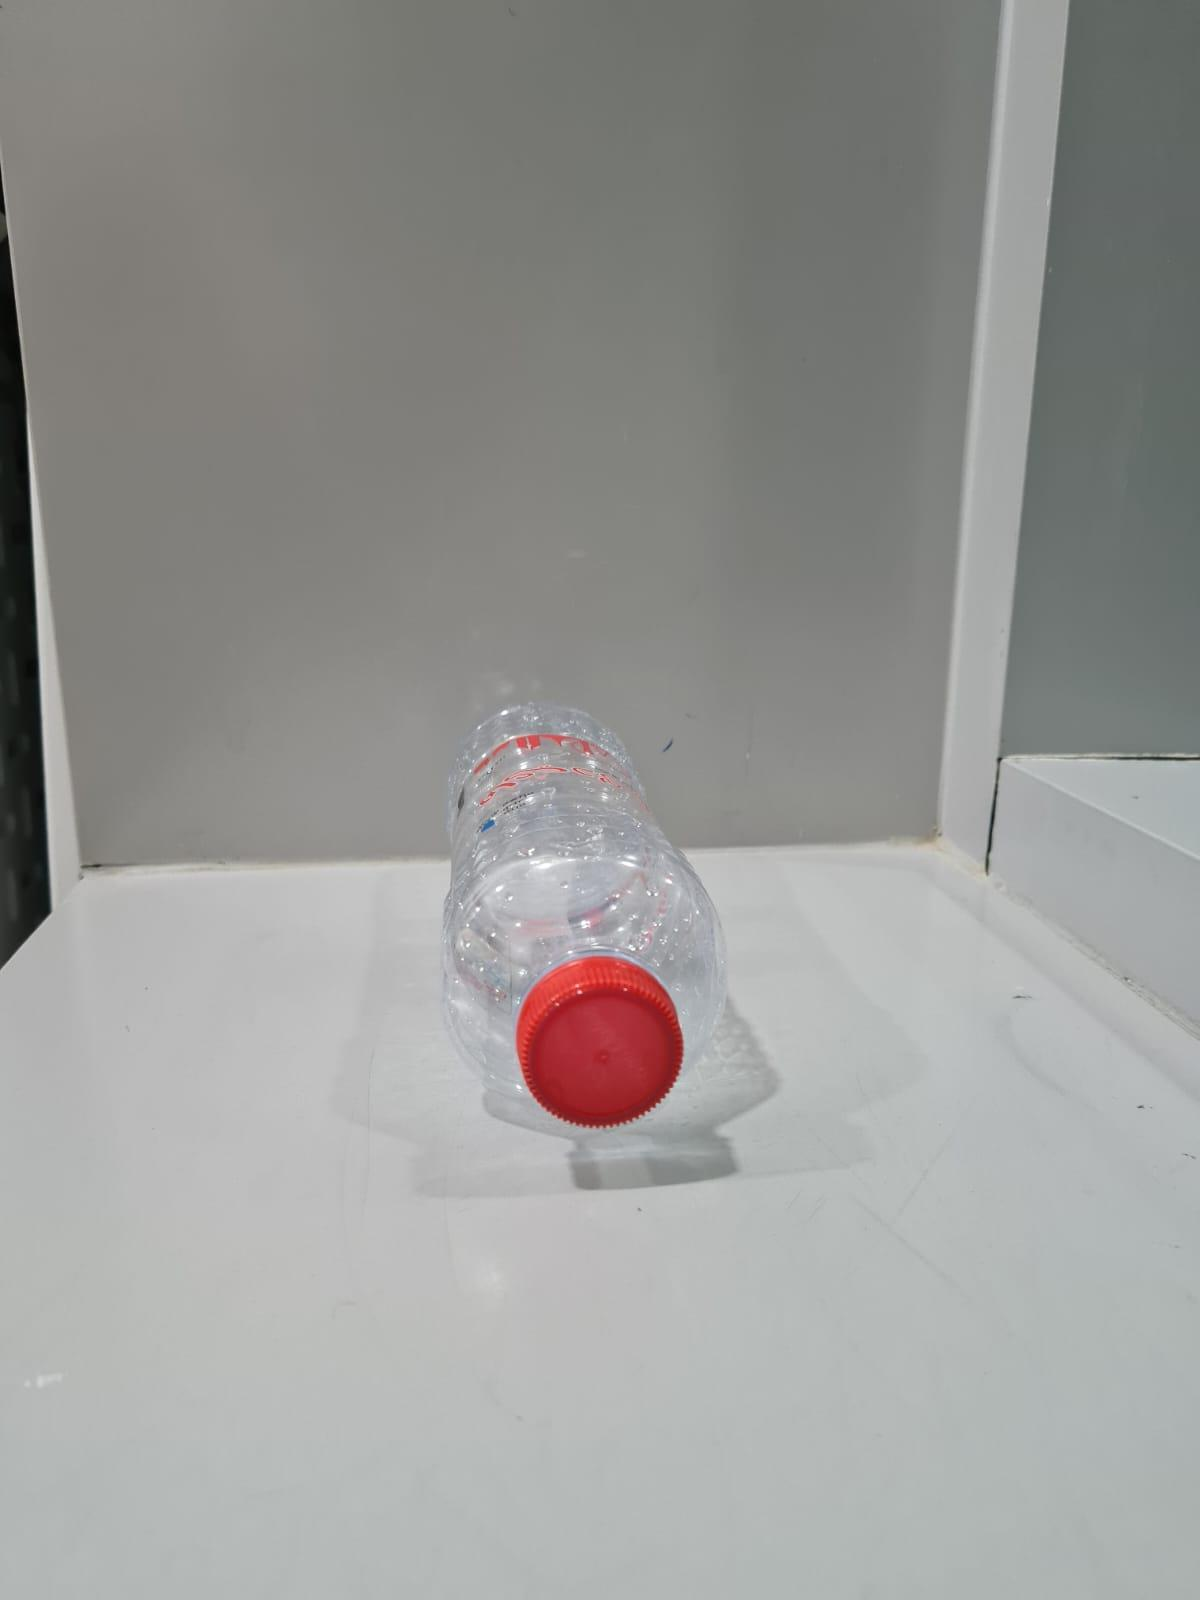bottle: (451, 699, 730, 1126)
